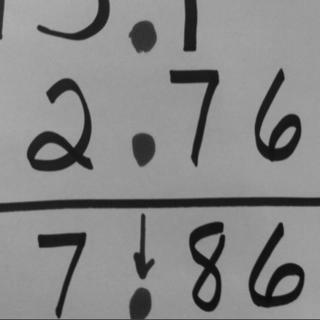.: (126, 122, 166, 173), (125, 12, 161, 62), (126, 281, 155, 316)
2: (15, 72, 100, 174)
6: (242, 59, 307, 169), (244, 216, 307, 311)
7: (165, 62, 223, 180), (25, 225, 90, 317)
8: (177, 215, 233, 316)
